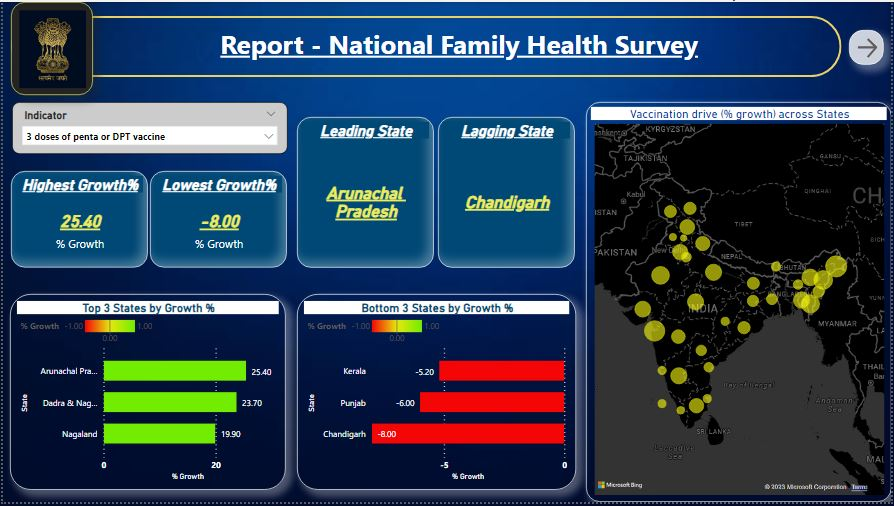

This screenshot's page, from the dashboard's own definition file:
{"tool":"powerbi","page":{"name":"Dashboard_pg1","canvas":[1280,720],"ordinal":0},"visuals":[{"type":"shape","box":[11.6,19.9,1195.5,87.8],"z":0},{"type":"slicer","fields":{"Values":["Raw Data States.Indicator"]},"box":[13.2,144.1,397.4,74.5],"z":1000},{"type":"barChart","title":"Top 3 States by Growth %","fields":{"Category":["Raw Data States.State"],"Y":["Avg(Raw Data States.% Growth)"]},"box":[9.9,420.6,397.4,281.5],"z":2000},{"type":"textbox","box":[147.4,29.8,1020,64.6],"z":3000},{"type":"image","box":[11.6,0,117.6,134.1],"z":4000},{"type":"map","title":"Vaccination drive (% growth) across States","fields":{"Category":["District Rank.States"],"Size":["Avg(Raw Data States.% Growth)"]},"box":[839.5,144.1,440.5,576.2],"z":5000},{"type":"barChart","title":"Bottom 3 States by Growth %","fields":{"Category":["Raw Data States.State"],"Y":["Avg(Raw Data States.% Growth)"]},"box":[423.9,420.6,402.4,281.5],"z":6000},{"type":"card","title":"Leading  State","fields":{"Values":["Min(Raw Data States.State)"]},"box":[423.9,165.6,197.1,216.9],"z":7000},{"type":"card","title":"Lagging  State","fields":{"Values":["Min(Raw Data States.State)"]},"box":[625.9,165.6,197.1,216.9],"z":8000},{"type":"card","title":"Highest Growth%","fields":{"Values":["Avg(Raw Data States.% Growth)"]},"box":[11.6,243.4,197.1,139.1],"z":9000},{"type":"card","title":"Lowest Growth%","fields":{"Values":["Avg(Raw Data States.% Growth)"]},"box":[212,243.4,197.1,139.1],"z":10000},{"type":"actionButton","box":[1218.7,39.7,49.7,49.7],"z":11000}]}

Visuals, with their boxes in screenshot pixels (x1, y1, x2, y2), scaled from the page's 1280x720 canvas onto the 894x506 screenshot:
shape: Rect(8, 14, 843, 76)
slicer - Raw Data States.Indicator: Rect(9, 101, 287, 154)
"Top 3 States by Growth %" barChart: Rect(7, 296, 284, 493)
textbox: Rect(103, 21, 815, 66)
image: Rect(8, 0, 90, 94)
"Vaccination drive (% growth) across States" map: Rect(586, 101, 893, 505)
"Bottom 3 States by Growth %" barChart: Rect(296, 296, 577, 493)
"Leading  State" card: Rect(296, 116, 434, 269)
"Lagging  State" card: Rect(437, 116, 575, 269)
"Highest Growth%" card: Rect(8, 171, 146, 269)
"Lowest Growth%" card: Rect(148, 171, 286, 269)
actionButton: Rect(851, 28, 886, 63)
